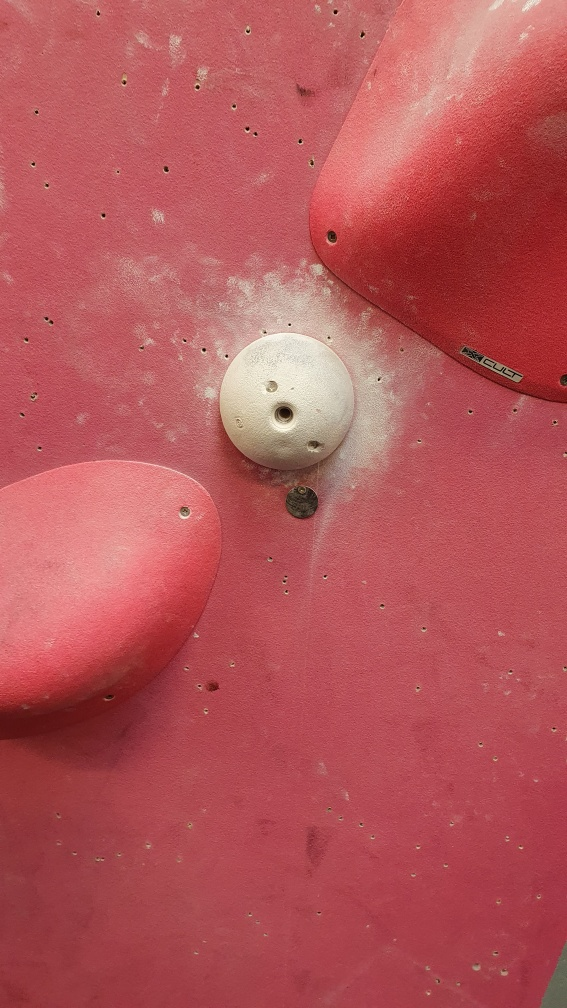Hand Start: (281, 483, 321, 523)
Sloper: (219, 329, 356, 473)
